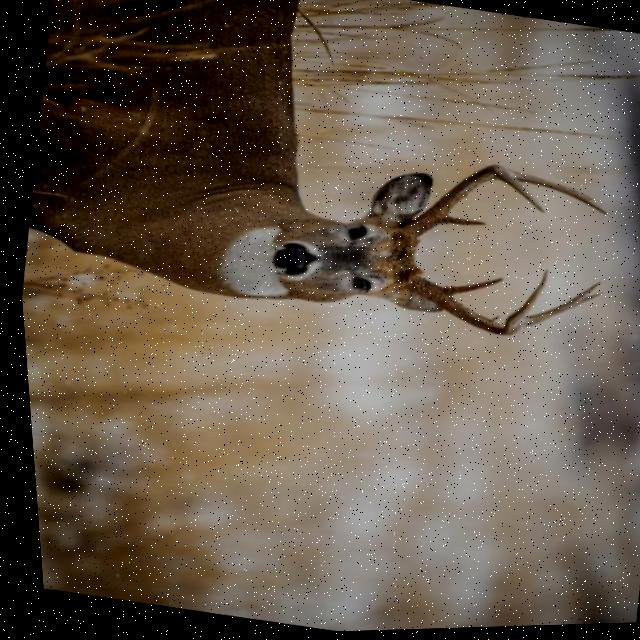L-F: (395, 166, 542, 240)
L-G1: (434, 217, 484, 227)
L-G3: (505, 170, 606, 218)
R-F: (396, 270, 544, 338)
R-G1: (435, 279, 500, 298)
